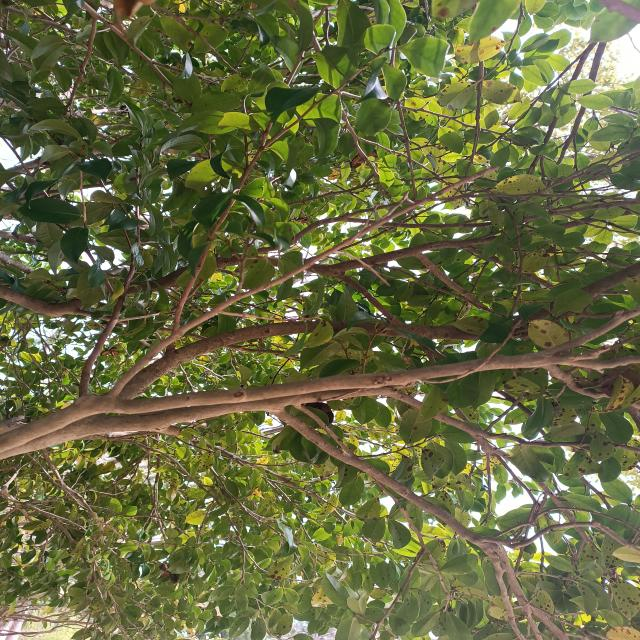Twig: (0, 310, 633, 454), (107, 166, 496, 394), (272, 410, 536, 614), (119, 320, 537, 399), (377, 387, 640, 452), (79, 177, 141, 398), (477, 438, 593, 544), (338, 276, 445, 363), (314, 235, 499, 275), (492, 508, 640, 536), (508, 521, 640, 552), (547, 366, 640, 408), (488, 553, 525, 640), (494, 454, 538, 526), (567, 336, 640, 361), (533, 607, 570, 639), (559, 355, 640, 368), (524, 612, 543, 640)
